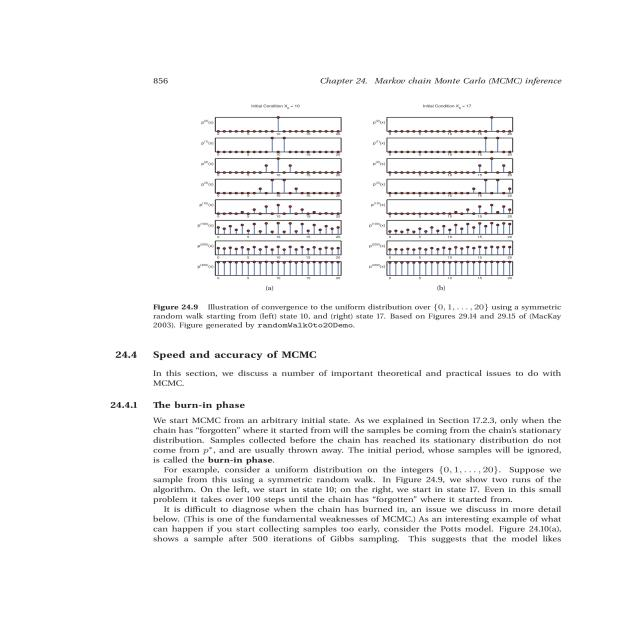diagram: (83, 92, 607, 338)
